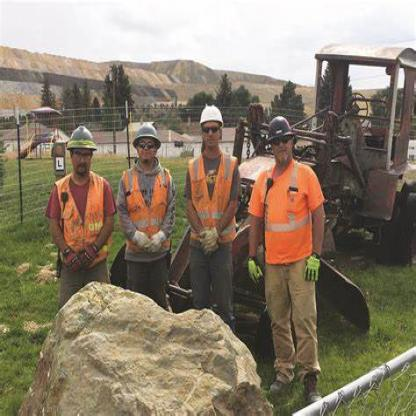person: (247, 93, 323, 406), (182, 87, 245, 327), (114, 110, 176, 311), (46, 118, 107, 310)
